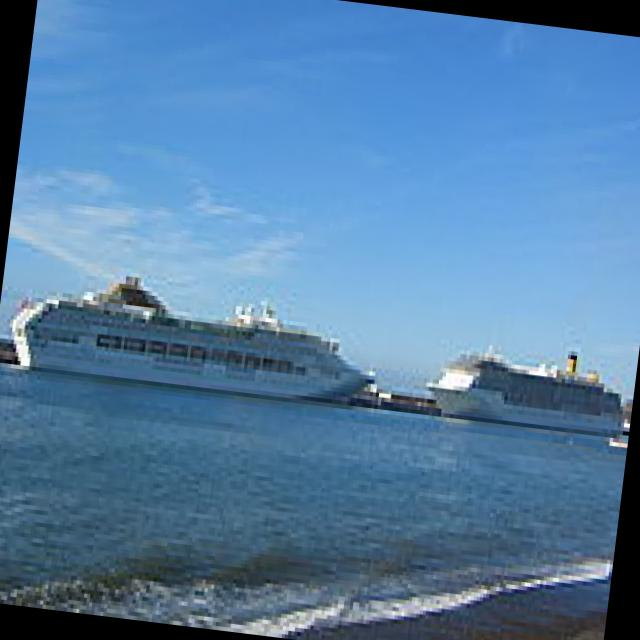boat: (11, 290, 380, 414), (423, 352, 633, 440)
